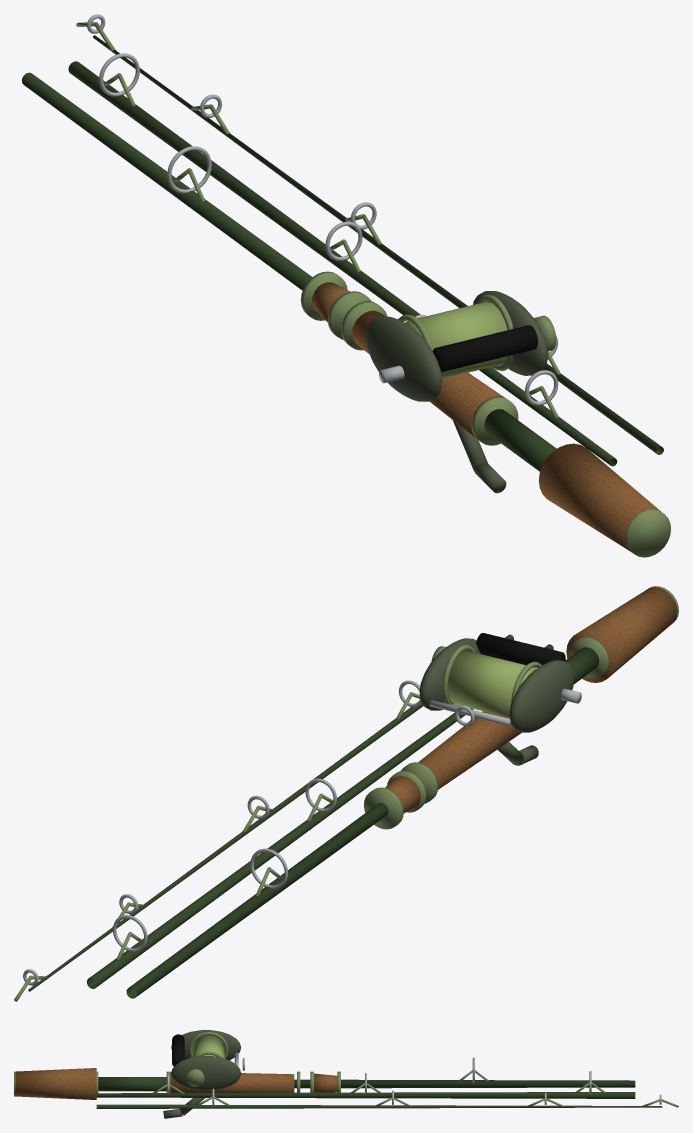
The model's file is willow_lure_folded.glb.
3 views of the same model, one above another, from view 1: azimuth 30°, elevation 25°; view 2: azimuth 150°, elevation 25°; view 3: azimuth 270°, elevation 25° (orthographic). The views are drawn at different scales.
Visible parts, largest first — view 1: Folded rod; view 2: Folded rod; view 3: Folded rod.
Part boxes in pixels (<box>): Folded rod: <box>22,14,670,557</box>; Folded rod: <box>14,586,678,1001</box>; Folded rod: <box>14,1030,678,1118</box>.
Bounding box in the file's own units: 0.1244 × 0.0943 × 0.7405.
7 materials, 2 textured.
